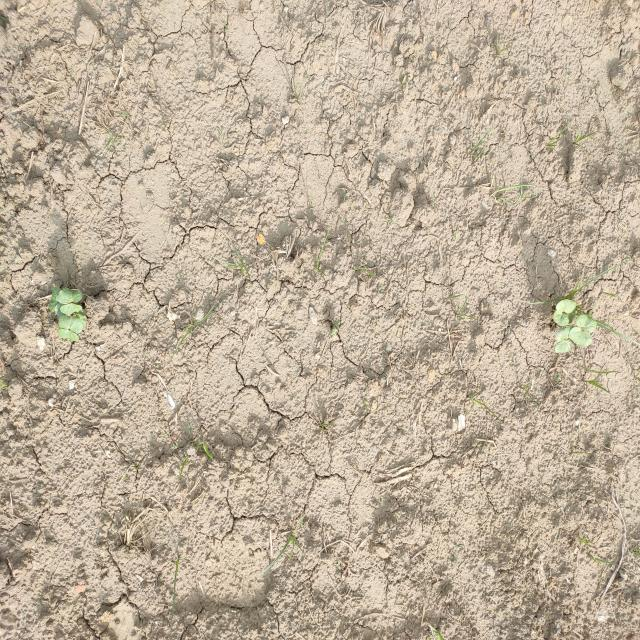seedling: (568, 326, 593, 347), (58, 315, 83, 334), (57, 288, 83, 304), (576, 314, 596, 332), (49, 287, 61, 312), (58, 328, 79, 342), (556, 326, 574, 342), (60, 303, 82, 316), (556, 299, 576, 313), (553, 310, 569, 327), (554, 340, 572, 353), (54, 303, 65, 317)
